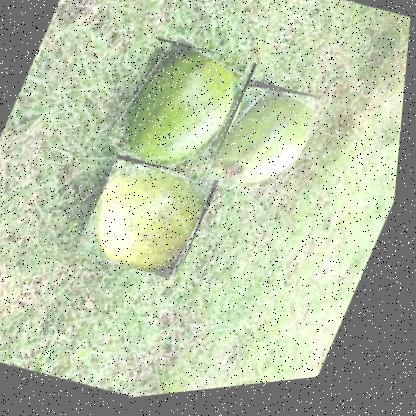guava: (106, 30, 262, 195), (77, 146, 226, 292), (196, 72, 330, 216)
